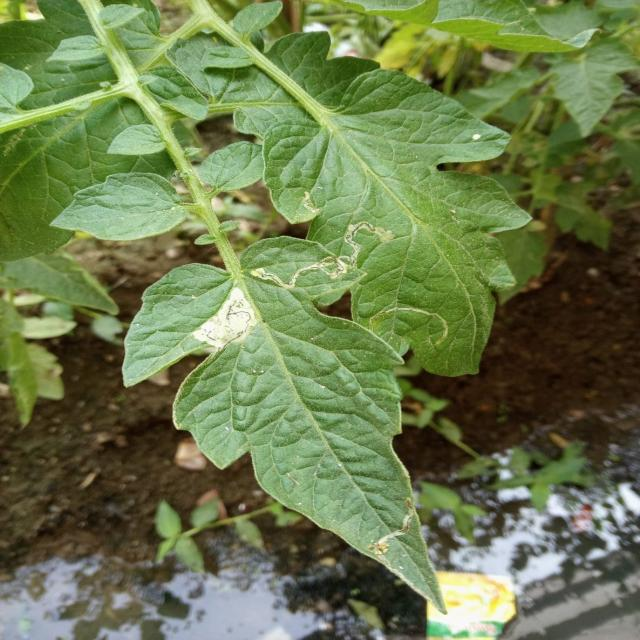Tuta absoluta: (191, 286, 267, 363), (367, 298, 452, 346), (251, 254, 350, 294), (367, 498, 424, 561), (337, 212, 399, 267)
